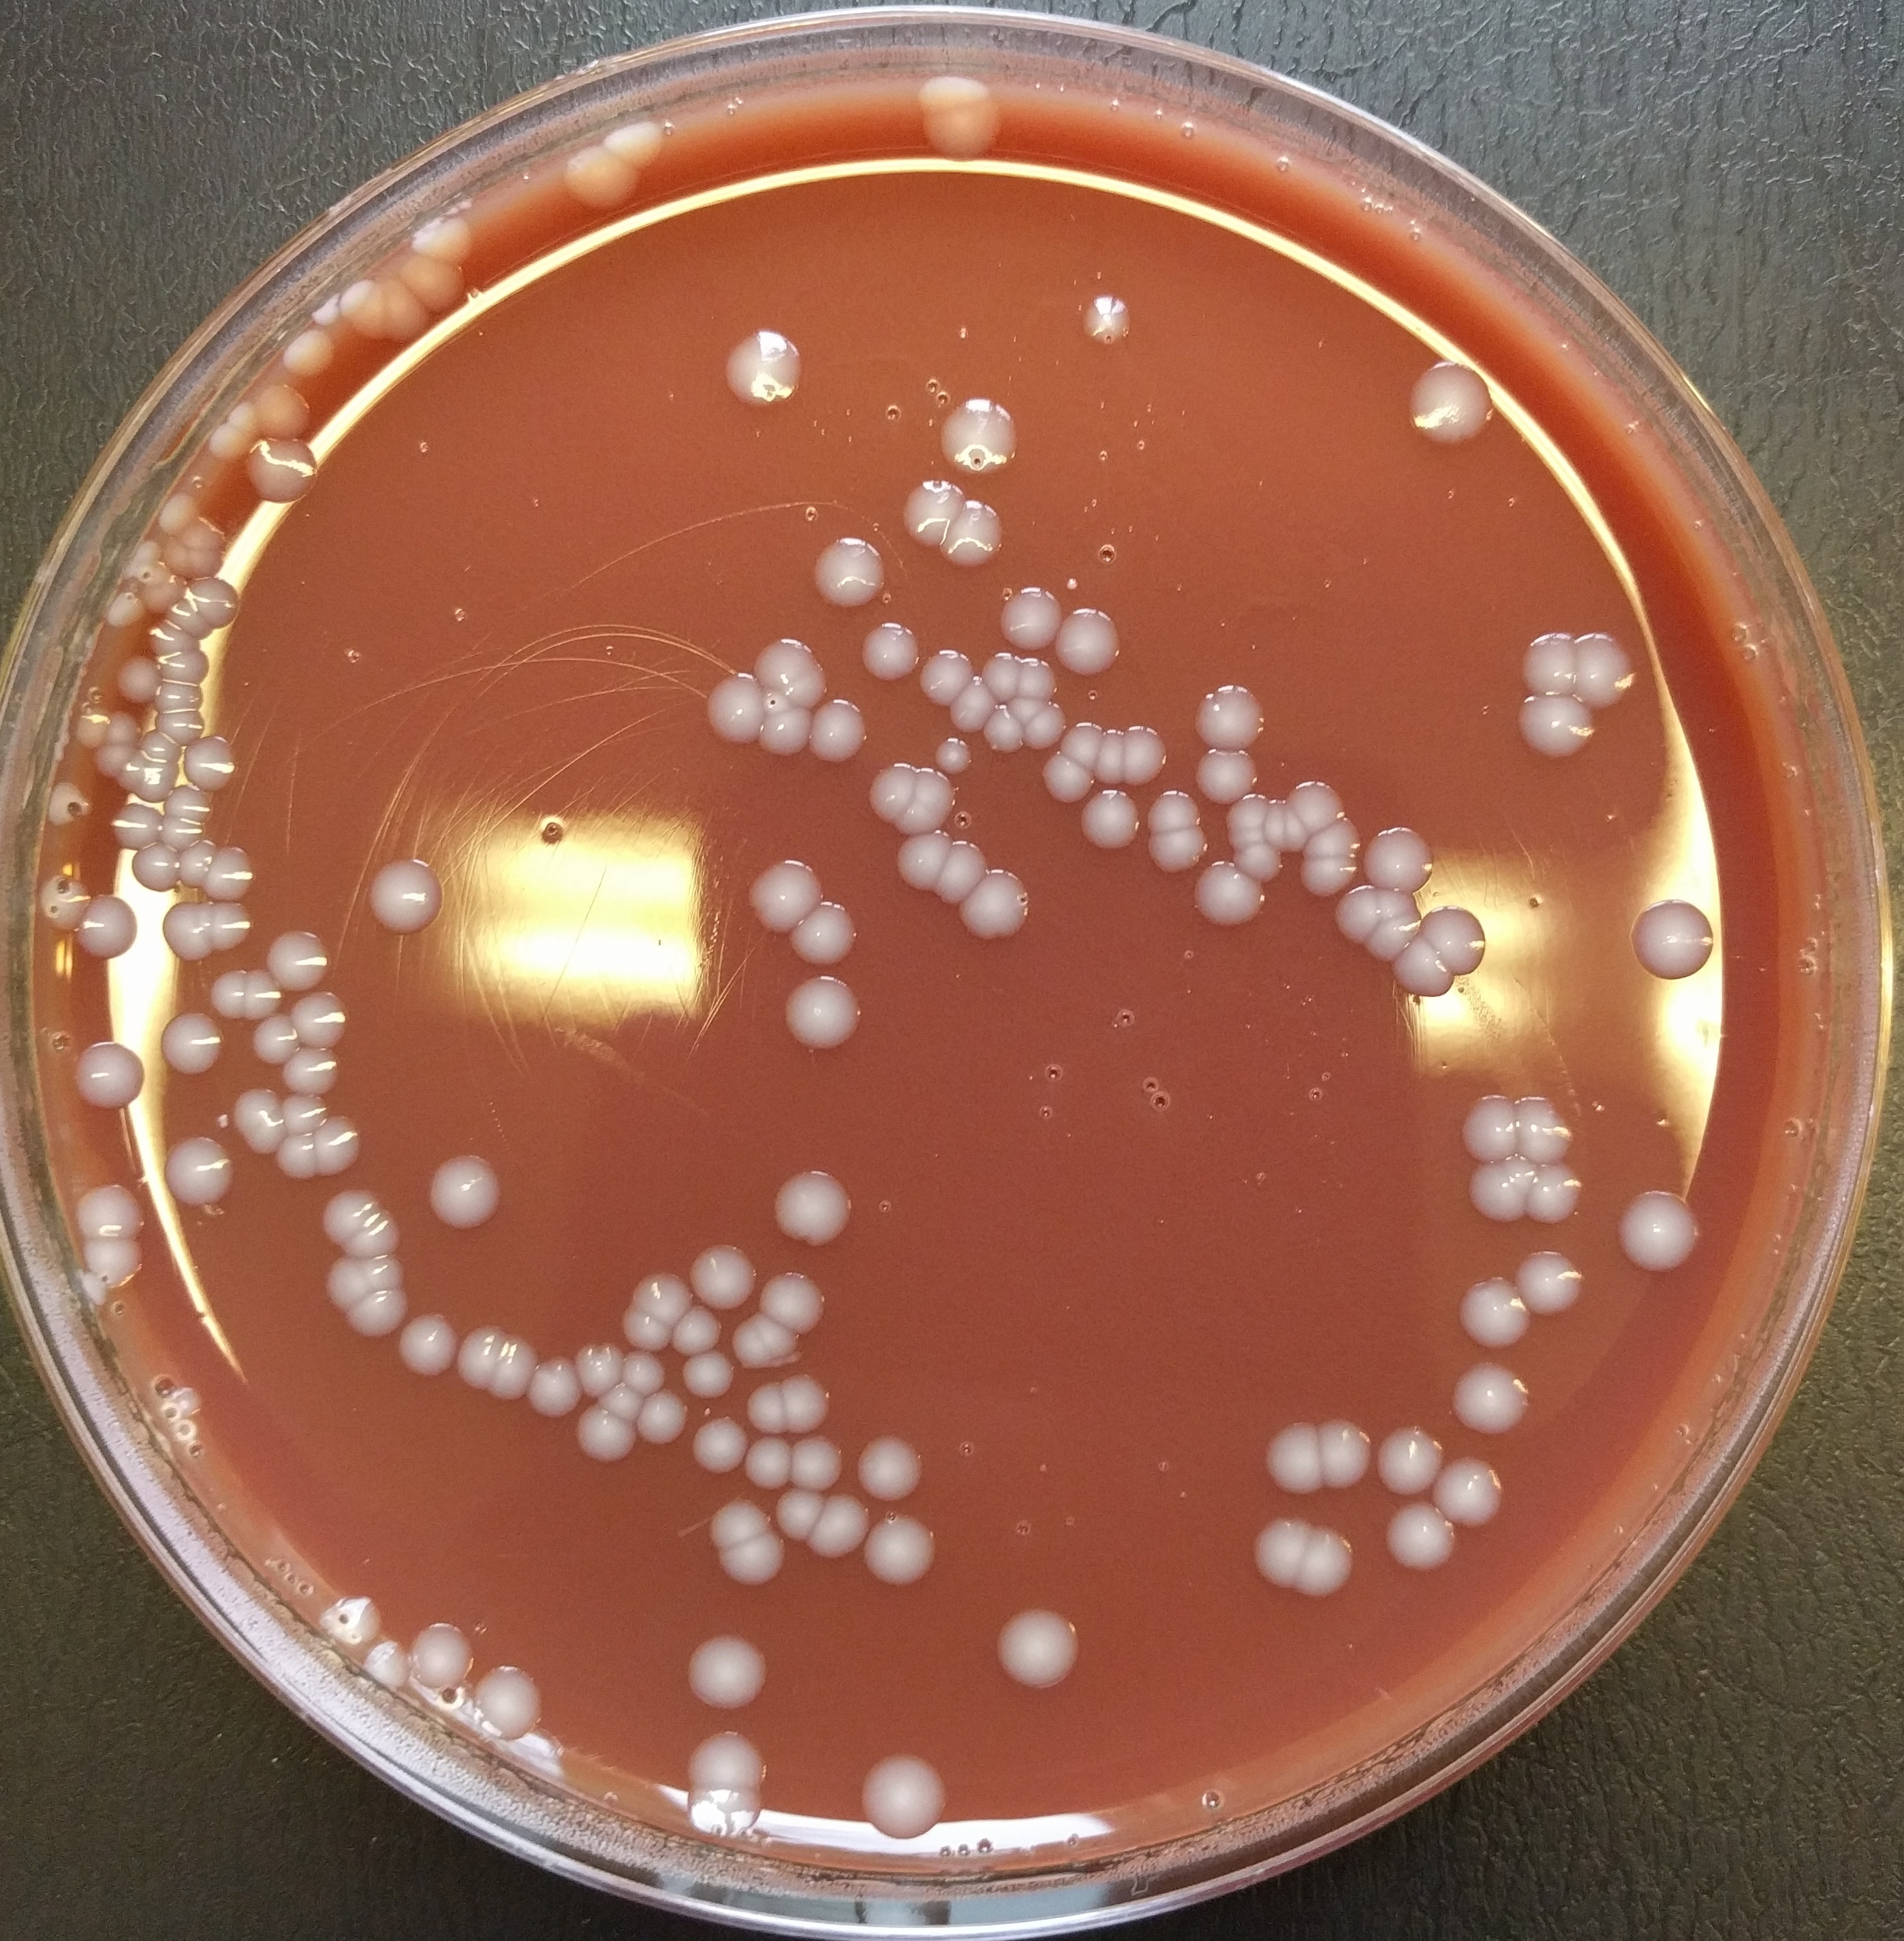sp02: (1397, 349, 1503, 455), (1622, 898, 1723, 991), (854, 1754, 955, 1845), (931, 391, 1030, 481), (1611, 1186, 1705, 1280), (713, 326, 813, 415), (989, 1604, 1086, 1690), (734, 853, 828, 940), (800, 528, 891, 617), (418, 1151, 511, 1238), (769, 975, 867, 1055), (361, 855, 450, 942), (769, 1167, 856, 1254), (860, 1503, 942, 1596), (1508, 691, 1602, 771), (66, 1034, 157, 1114), (1377, 1496, 1461, 1582), (471, 1658, 553, 1746), (1444, 1362, 1538, 1437), (952, 863, 1034, 949), (893, 473, 973, 560), (685, 1634, 772, 1714), (1449, 1275, 1540, 1352), (1046, 603, 1128, 687), (685, 670, 769, 750), (678, 1779, 776, 1847), (1182, 684, 1275, 755), (1358, 821, 1442, 900), (155, 1135, 239, 1214), (1283, 1517, 1360, 1603), (553, 145, 643, 215), (677, 1730, 774, 1795), (1252, 1421, 1332, 1500), (1187, 858, 1269, 935), (248, 432, 319, 520), (387, 249, 478, 317), (680, 1235, 758, 1313), (1506, 1249, 1592, 1320), (1372, 1423, 1449, 1502), (1431, 1458, 1510, 1533), (1510, 1088, 1580, 1172), (853, 1432, 928, 1509), (987, 582, 1065, 656), (1381, 933, 1461, 1005), (1569, 628, 1637, 712), (262, 924, 335, 1001), (68, 884, 139, 963), (781, 903, 867, 968), (1451, 1093, 1526, 1167), (1243, 1514, 1318, 1587), (391, 1306, 462, 1383), (935, 502, 1013, 572), (758, 1266, 828, 1343), (853, 610, 922, 685), (1311, 1418, 1379, 1495), (405, 1622, 481, 1690), (919, 103, 1008, 160), (1419, 905, 1493, 975), (1189, 743, 1264, 809), (1515, 628, 1578, 706), (1350, 907, 1430, 968), (800, 1491, 872, 1559), (71, 1186, 150, 1247), (739, 628, 819, 687), (884, 830, 955, 896), (73, 1231, 148, 1294), (1071, 286, 1140, 352), (317, 1188, 387, 1254), (1076, 787, 1140, 858), (1461, 1151, 1526, 1222), (452, 1324, 523, 1388), (225, 1085, 288, 1158), (806, 698, 872, 766), (518, 1355, 584, 1423), (153, 1011, 227, 1073), (717, 1528, 788, 1589), (488, 1336, 547, 1409), (910, 647, 976, 712), (936, 841, 999, 909), (687, 1413, 755, 1474), (699, 1495, 776, 1549), (568, 1404, 638, 1463), (375, 276, 432, 347), (307, 1254, 378, 1311), (1325, 882, 1384, 950), (249, 387, 323, 441), (401, 221, 488, 267), (155, 896, 216, 961), (758, 694, 816, 762), (310, 1111, 368, 1179), (596, 120, 673, 171), (319, 1596, 396, 1646), (1282, 781, 1348, 839), (284, 994, 352, 1050), (856, 762, 919, 821), (743, 1434, 802, 1496), (183, 572, 246, 631), (1294, 849, 1358, 907), (272, 326, 345, 377), (279, 1045, 345, 1100), (1144, 825, 1212, 879), (940, 675, 1001, 734), (356, 1632, 415, 1693), (1520, 1163, 1583, 1221), (664, 1301, 727, 1359), (628, 1270, 692, 1325), (342, 1287, 411, 1338), (769, 1486, 828, 1545), (1036, 753, 1098, 809), (785, 1437, 847, 1493), (246, 1011, 303, 1071), (180, 731, 239, 788), (614, 1303, 670, 1364), (636, 1386, 690, 1449), (204, 841, 258, 903), (237, 963, 289, 1027), (910, 73, 997, 112), (894, 769, 952, 827), (269, 1128, 326, 1186), (35, 877, 91, 936), (751, 1306, 806, 1367), (745, 1378, 797, 1440), (124, 841, 187, 893), (343, 1216, 408, 1266), (1116, 724, 1165, 790), (106, 654, 169, 705), (1295, 821, 1367, 865), (567, 1339, 621, 1397), (199, 895, 256, 949), (973, 652, 1025, 712), (105, 804, 164, 856), (1011, 705, 1072, 755), (783, 1369, 828, 1437), (1140, 787, 1203, 835), (774, 656, 832, 708), (976, 703, 1027, 762), (591, 1379, 650, 1430), (152, 644, 220, 687), (1057, 719, 1109, 774), (614, 1348, 670, 1400), (42, 780, 99, 830), (159, 781, 216, 830), (677, 1352, 738, 1397), (267, 1092, 331, 1134), (201, 966, 249, 1020), (146, 705, 209, 746), (148, 675, 211, 715), (729, 1317, 772, 1374), (1091, 727, 1133, 787), (1374, 881, 1423, 931), (176, 837, 225, 888), (143, 624, 207, 661), (996, 685, 1057, 724), (162, 600, 218, 642), (1276, 797, 1311, 863), (1010, 659, 1060, 705), (357, 1250, 408, 1296), (127, 553, 178, 598), (197, 420, 249, 464), (331, 281, 387, 321), (1224, 820, 1282, 858), (926, 734, 976, 778), (87, 734, 138, 778), (178, 516, 230, 558), (148, 495, 202, 535), (1259, 793, 1290, 860), (70, 705, 117, 748), (96, 588, 146, 628), (139, 727, 183, 771), (159, 809, 206, 849), (1236, 842, 1282, 882), (225, 396, 265, 439), (891, 806, 940, 841), (1229, 795, 1278, 828), (138, 577, 183, 612), (103, 706, 143, 745), (159, 537, 192, 582), (181, 549, 227, 579), (75, 1264, 110, 1303), (760, 689, 797, 719)
